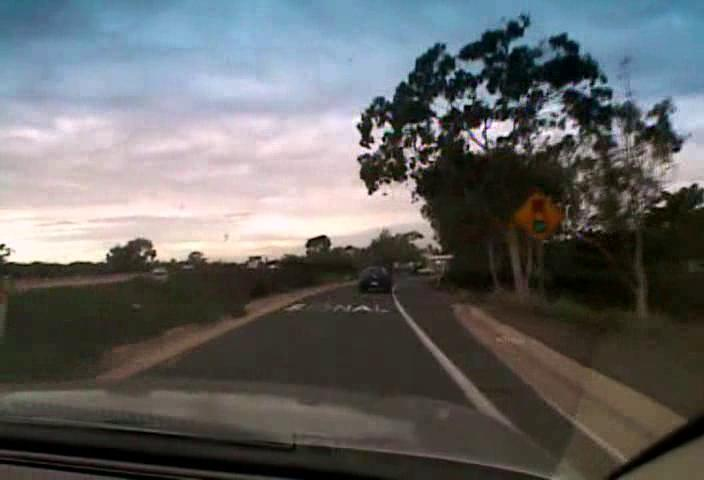signalAhead: (512, 189, 566, 242)
